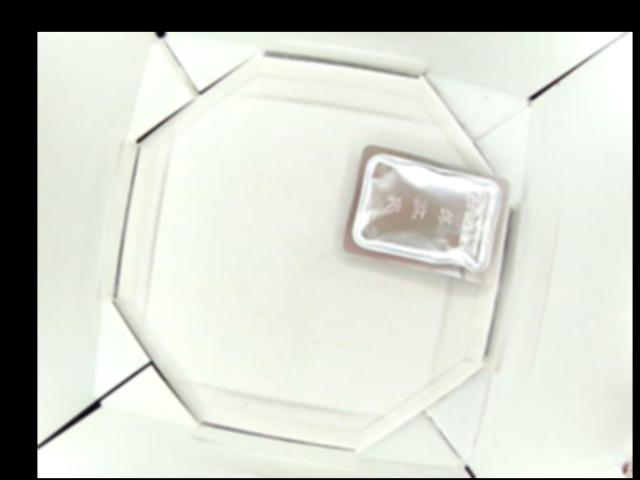Medicine: (343, 143, 507, 291)
